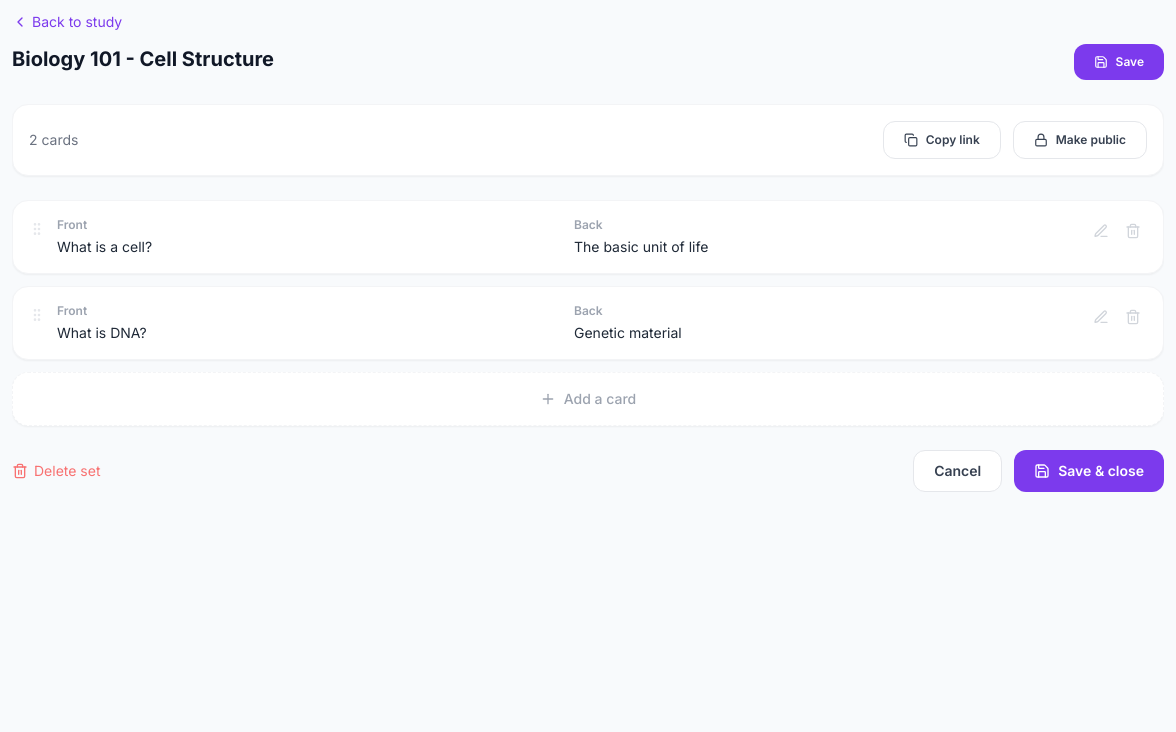
Scenario: FlashcardEditor - FEAT-011 › AC-11.3.3: Add Card button is enabled when both front and back are filled
The width and height of the screenshot is (1176, 732).
Expected: the text "What is a cell?" is shown, [57,238,152,255]
# Click "Add a card"
Click the button "Add a card" at x=588, y=399, box [12,372,1164,426]
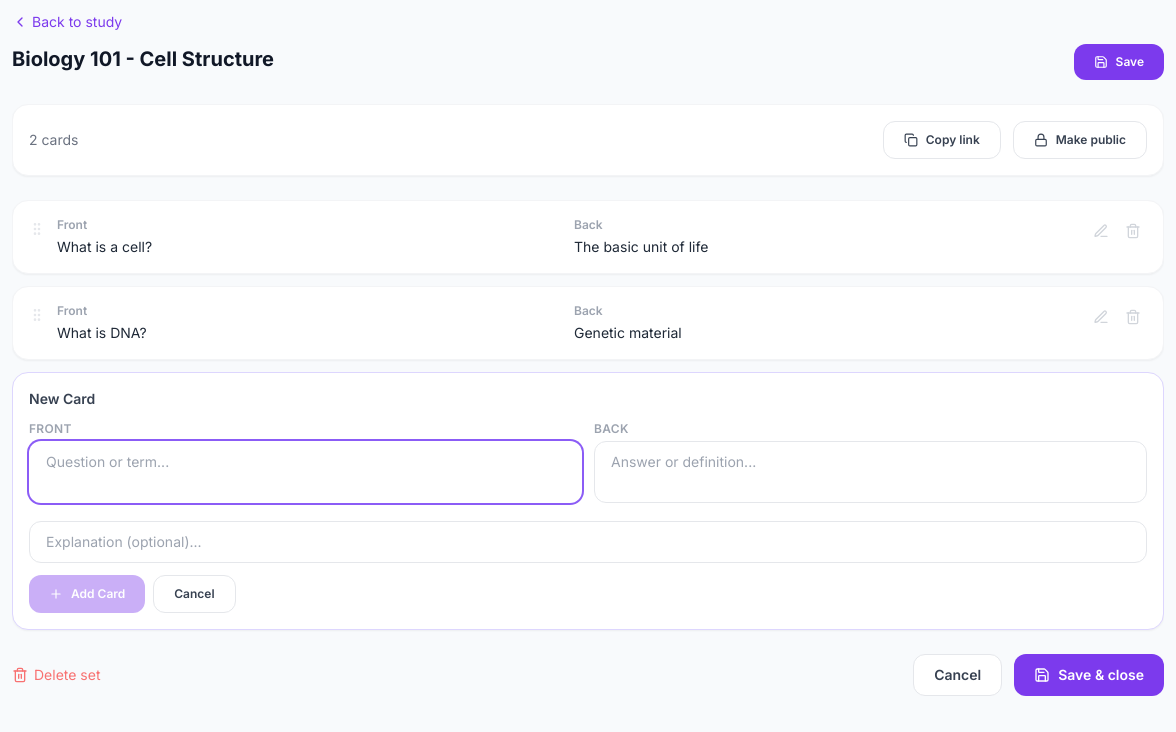
Expected: the text box with placeholder "Question or term..." is shown
# Fill both fields
Type "New question" into the text box with placeholder "Question or term..." at x=306, y=472, box [29,441,582,503]
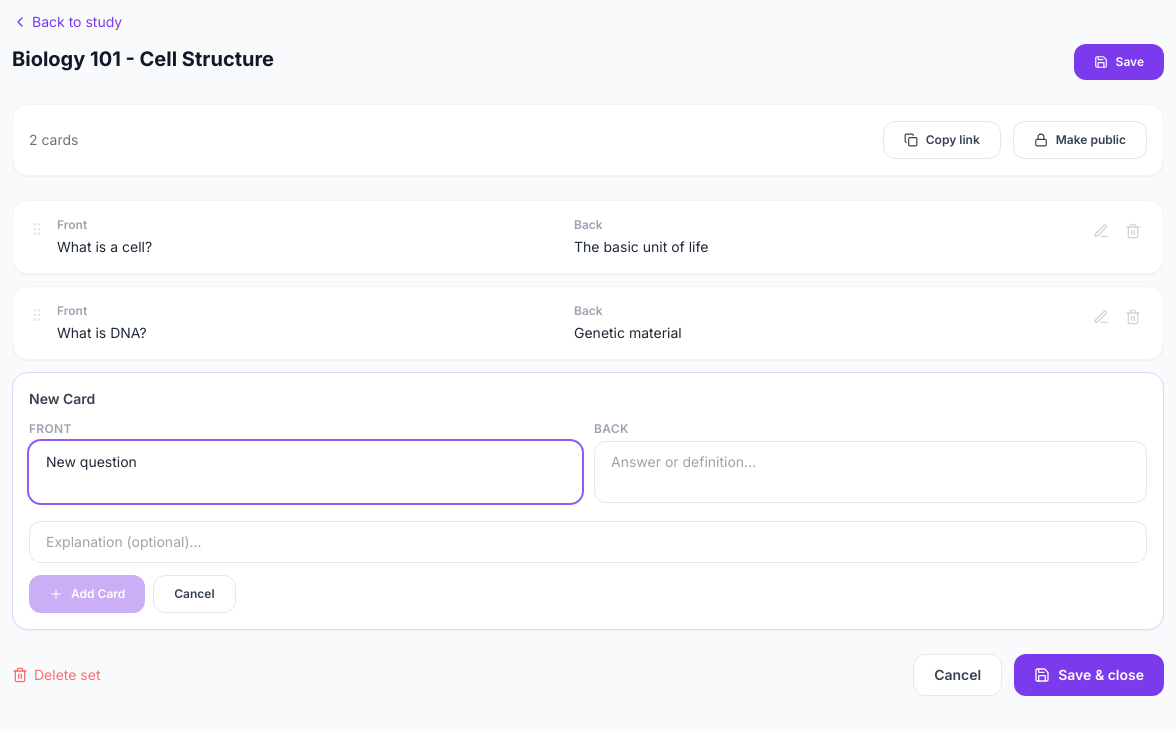
Type "New answer" into the text box with placeholder "Answer or definition..." at x=870, y=472, box [594,441,1147,503]
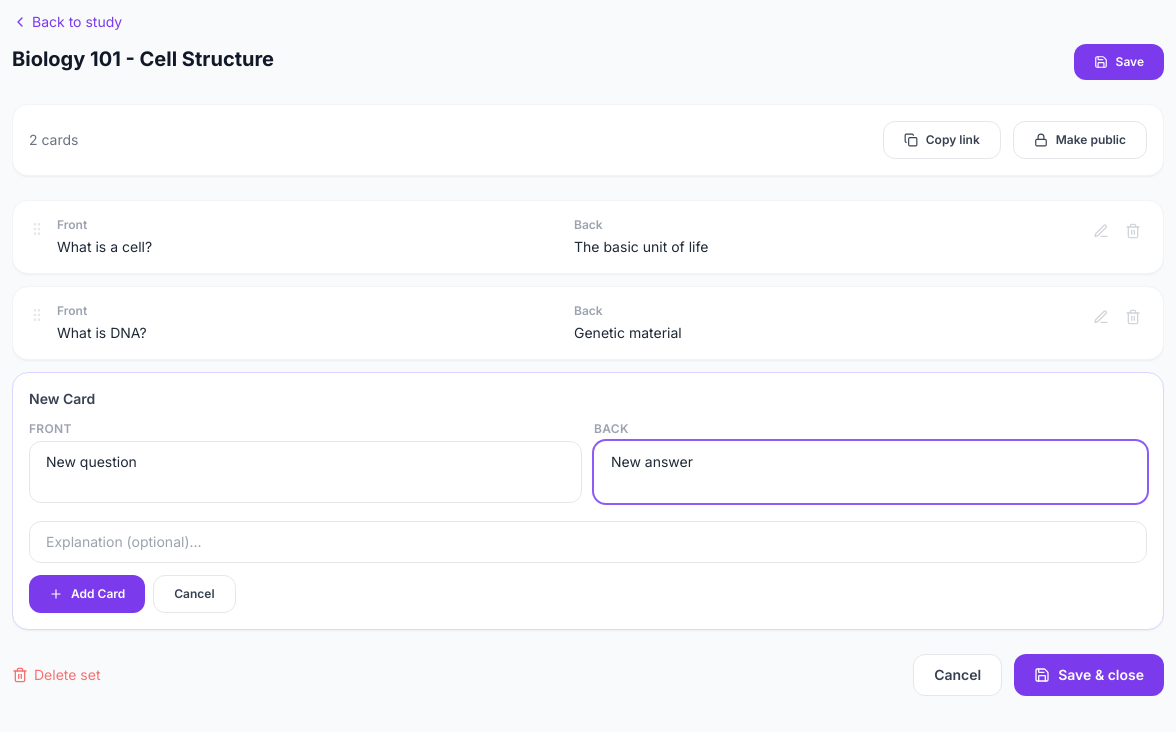
Expected: the button "Add Card" is enabled, [29,575,145,613]
